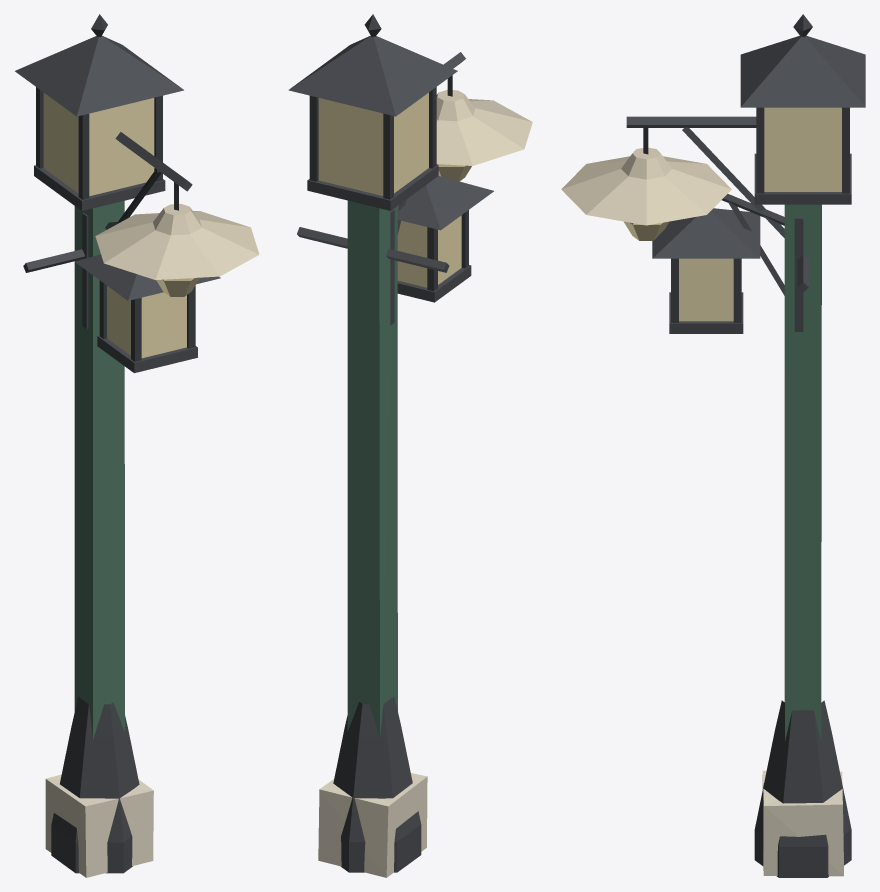
File: aubrune-luminaires.glb
3 views of the same model, side by side, from view 1: azimuth 30°, elevation 25°; view 2: azimuth 150°, elevation 25°; view 3: azimuth 270°, elevation 25° (orthographic).
Parts seen in each view (by area): view 1: platform-lantern, street-lantern, wall-lantern; view 2: platform-lantern, street-lantern, wall-lantern; view 3: platform-lantern, street-lantern, wall-lantern.
Part boxes in pixels (box(x1,y1,x2,y2)): platform-lantern: box(45, 132, 259, 877); street-lantern: box(15, 14, 183, 873); wall-lantern: box(74, 213, 220, 373); platform-lantern: box(318, 52, 532, 877); street-lantern: box(288, 14, 457, 872); wall-lantern: box(389, 176, 493, 325); platform-lantern: box(561, 116, 843, 876); street-lantern: box(740, 14, 865, 877); wall-lantern: box(652, 194, 803, 333).
Bounding box in the file's own units: 0.6 × 3.28 × 1.07.
